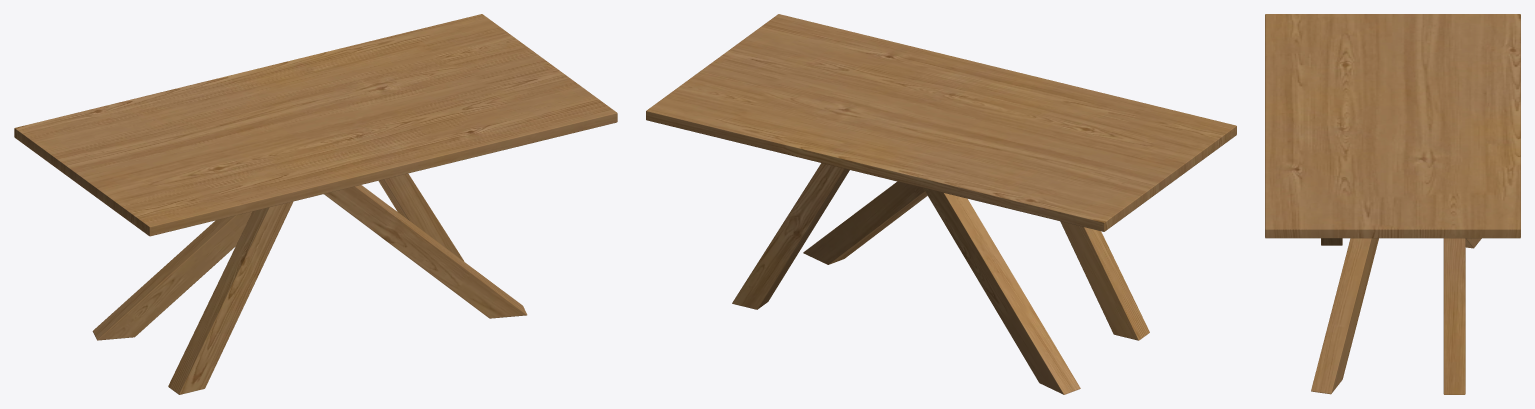
The model's file is abo-B07K7Z6YJT.glb.
The picture shows the model from 3 angles, left to right: view 1: azimuth 30°, elevation 25°; view 2: azimuth 150°, elevation 25°; view 3: azimuth 270°, elevation 25°; orthographic projection. The views are drawn at different scales.
Size of the model in its own units: 1.8 by 0.75 by 0.901.
Materials: 1 (1 with a texture image).
